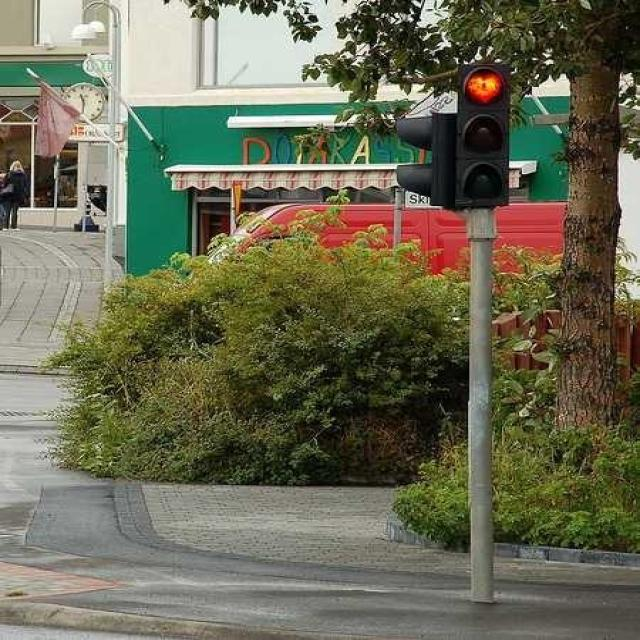Traffic Light -Red-: (452, 64, 512, 207)
